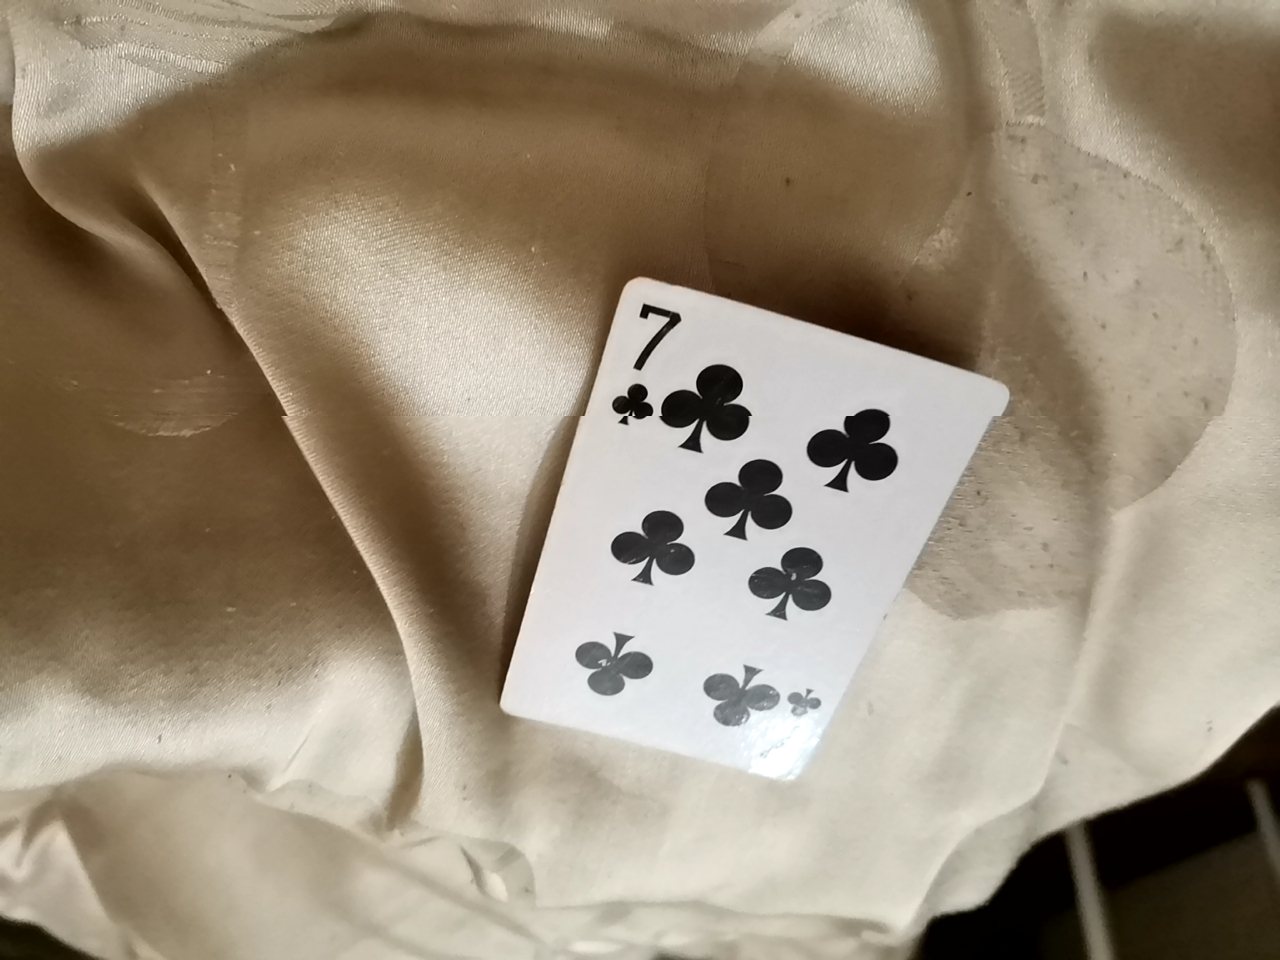mh 7: (513, 270, 1000, 776)
